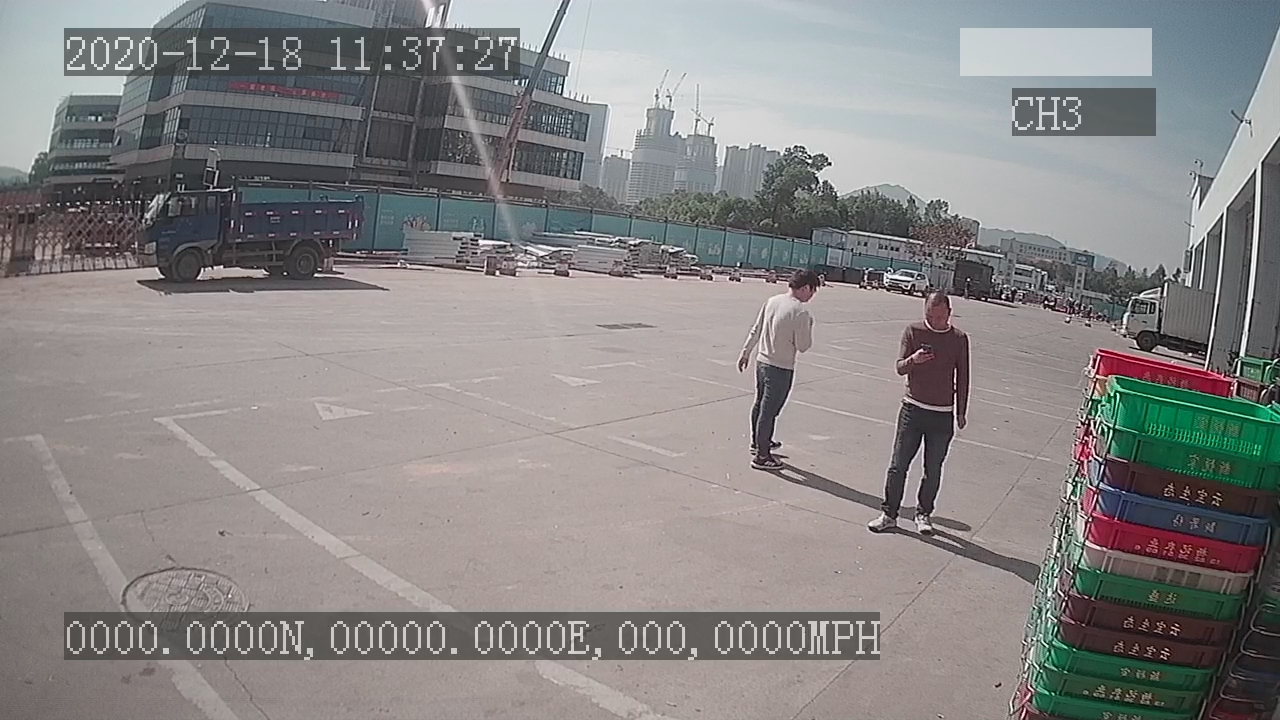person: (868, 289, 976, 546), (737, 262, 823, 473)
